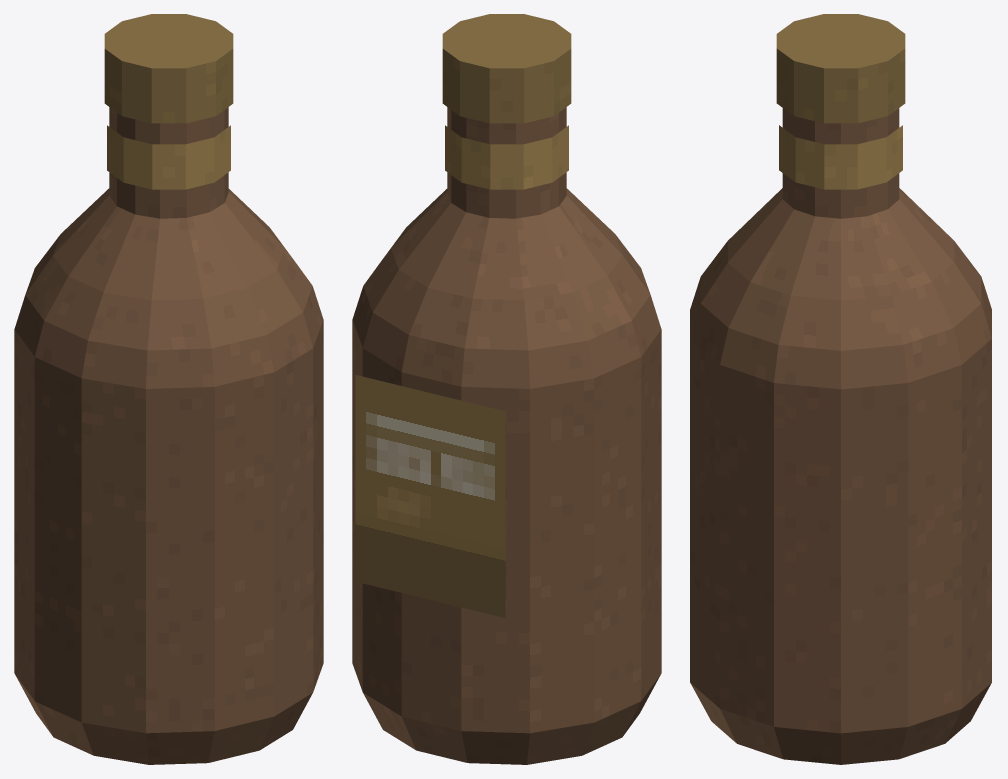
The model's file is india_pale_ale.glb.
3 views of the same model, side by side, from view 1: azimuth 30°, elevation 25°; view 2: azimuth 150°, elevation 25°; view 3: azimuth 270°, elevation 25° (orthographic).
Parts seen in each view (by area): view 1: block_bottle silhouette, block_bottle closure, block_neck band; view 2: block_bottle silhouette, block_drink label, block_bottle closure, block_neck band; view 3: block_bottle silhouette, block_bottle closure, block_neck band.
Boxes of the visible parts, x1=… form: block_bottle silhouette: x1=14, y1=107, x2=323, y2=764; block_bottle closure: x1=104, y1=14, x2=233, y2=123; block_neck band: x1=107, y1=125, x2=230, y2=189; block_bottle silhouette: x1=352, y1=107, x2=661, y2=764; block_drink label: x1=355, y1=375, x2=505, y2=617; block_bottle closure: x1=442, y1=14, x2=571, y2=123; block_neck band: x1=445, y1=125, x2=568, y2=189; block_bottle silhouette: x1=690, y1=108, x2=991, y2=764; block_bottle closure: x1=776, y1=14, x2=905, y2=123; block_neck band: x1=779, y1=125, x2=902, y2=189.
Bounding box in the file's own units: 0.0688 × 0.1638 × 0.0675.
Materials: 1 (1 with a texture image).
